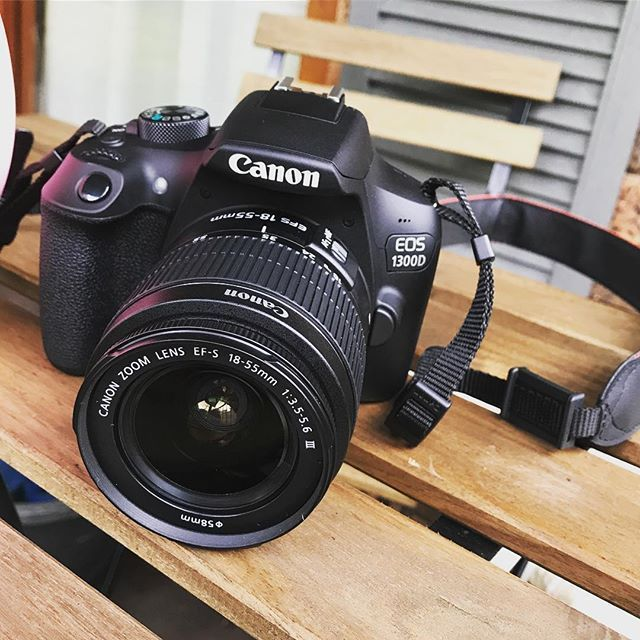kamera: (34, 69, 479, 550)
